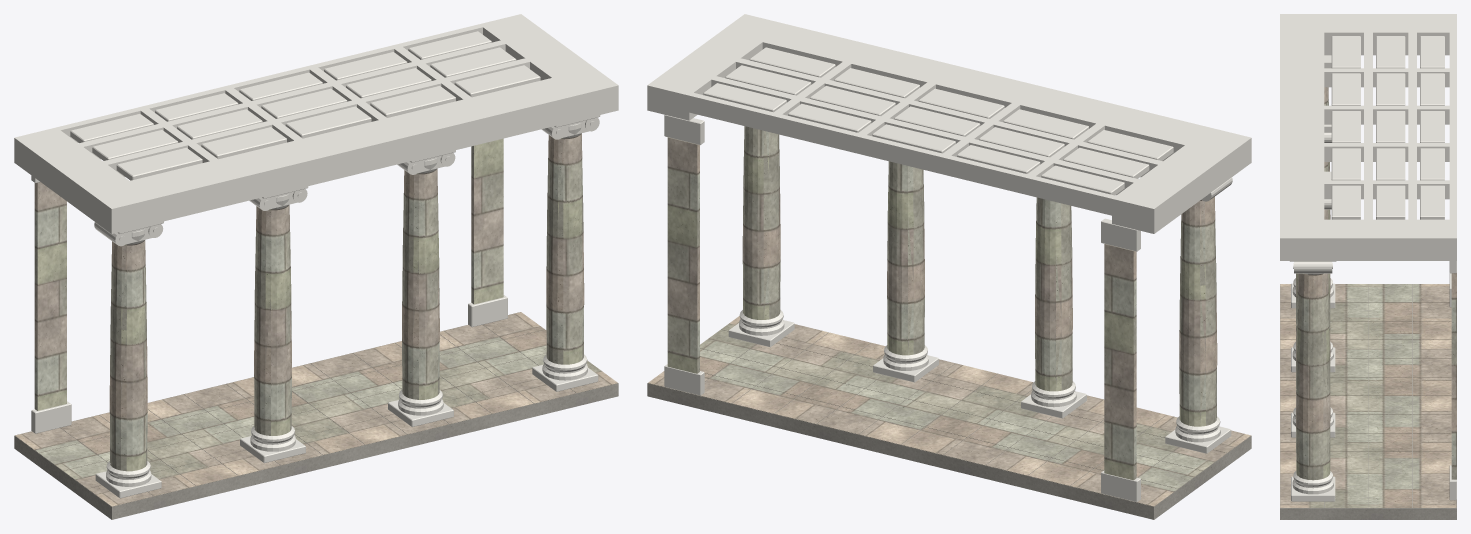
File: portico.glb
The picture shows the model from 3 angles, left to right: view 1: azimuth 30°, elevation 25°; view 2: azimuth 150°, elevation 25°; view 3: azimuth 270°, elevation 25°; orthographic projection. The views are drawn at different scales.
Visible parts, largest first — view 1: portico_trim, portico_stone, portico_paver, portico_concrete; view 2: portico_trim, portico_stone, portico_paver, portico_concrete; view 3: portico_trim, portico_paver, portico_stone, portico_concrete.
Boxes of the visible parts, left/top/right/bottom form: portico_trim: left=14, top=14, right=618, bottom=498; portico_stone: left=34, top=133, right=584, bottom=471; portico_paver: left=15, top=312, right=617, bottom=506; portico_concrete: left=14, top=324, right=618, bottom=519; portico_trim: left=647, top=14, right=1251, bottom=501; portico_stone: left=667, top=126, right=1217, bottom=480; portico_paver: left=648, top=316, right=1250, bottom=506; portico_concrete: left=647, top=331, right=1251, bottom=519; portico_trim: left=1280, top=14, right=1456, bottom=501; portico_paver: left=1280, top=284, right=1456, bottom=507; portico_stone: left=1296, top=87, right=1456, bottom=480; portico_concrete: left=1280, top=284, right=1456, bottom=519.
Size of the model in its own units: 7.2 by 4.22 by 2.4.
5 materials, 3 textured.
